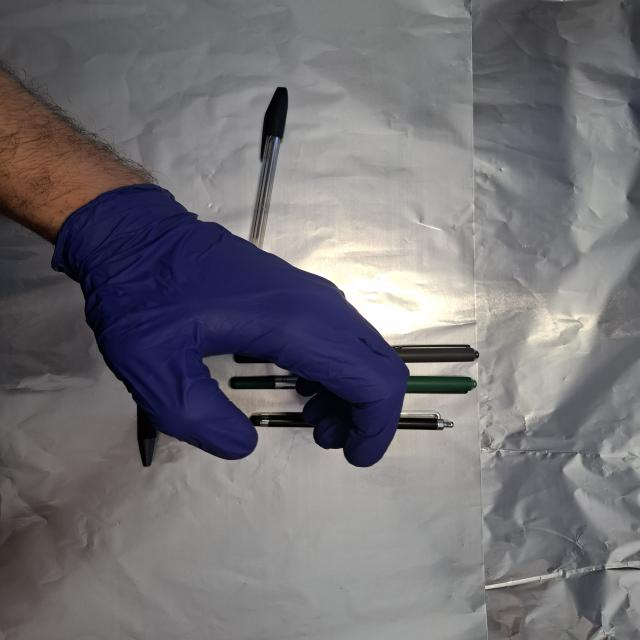glove_on: (53, 184, 412, 471)
